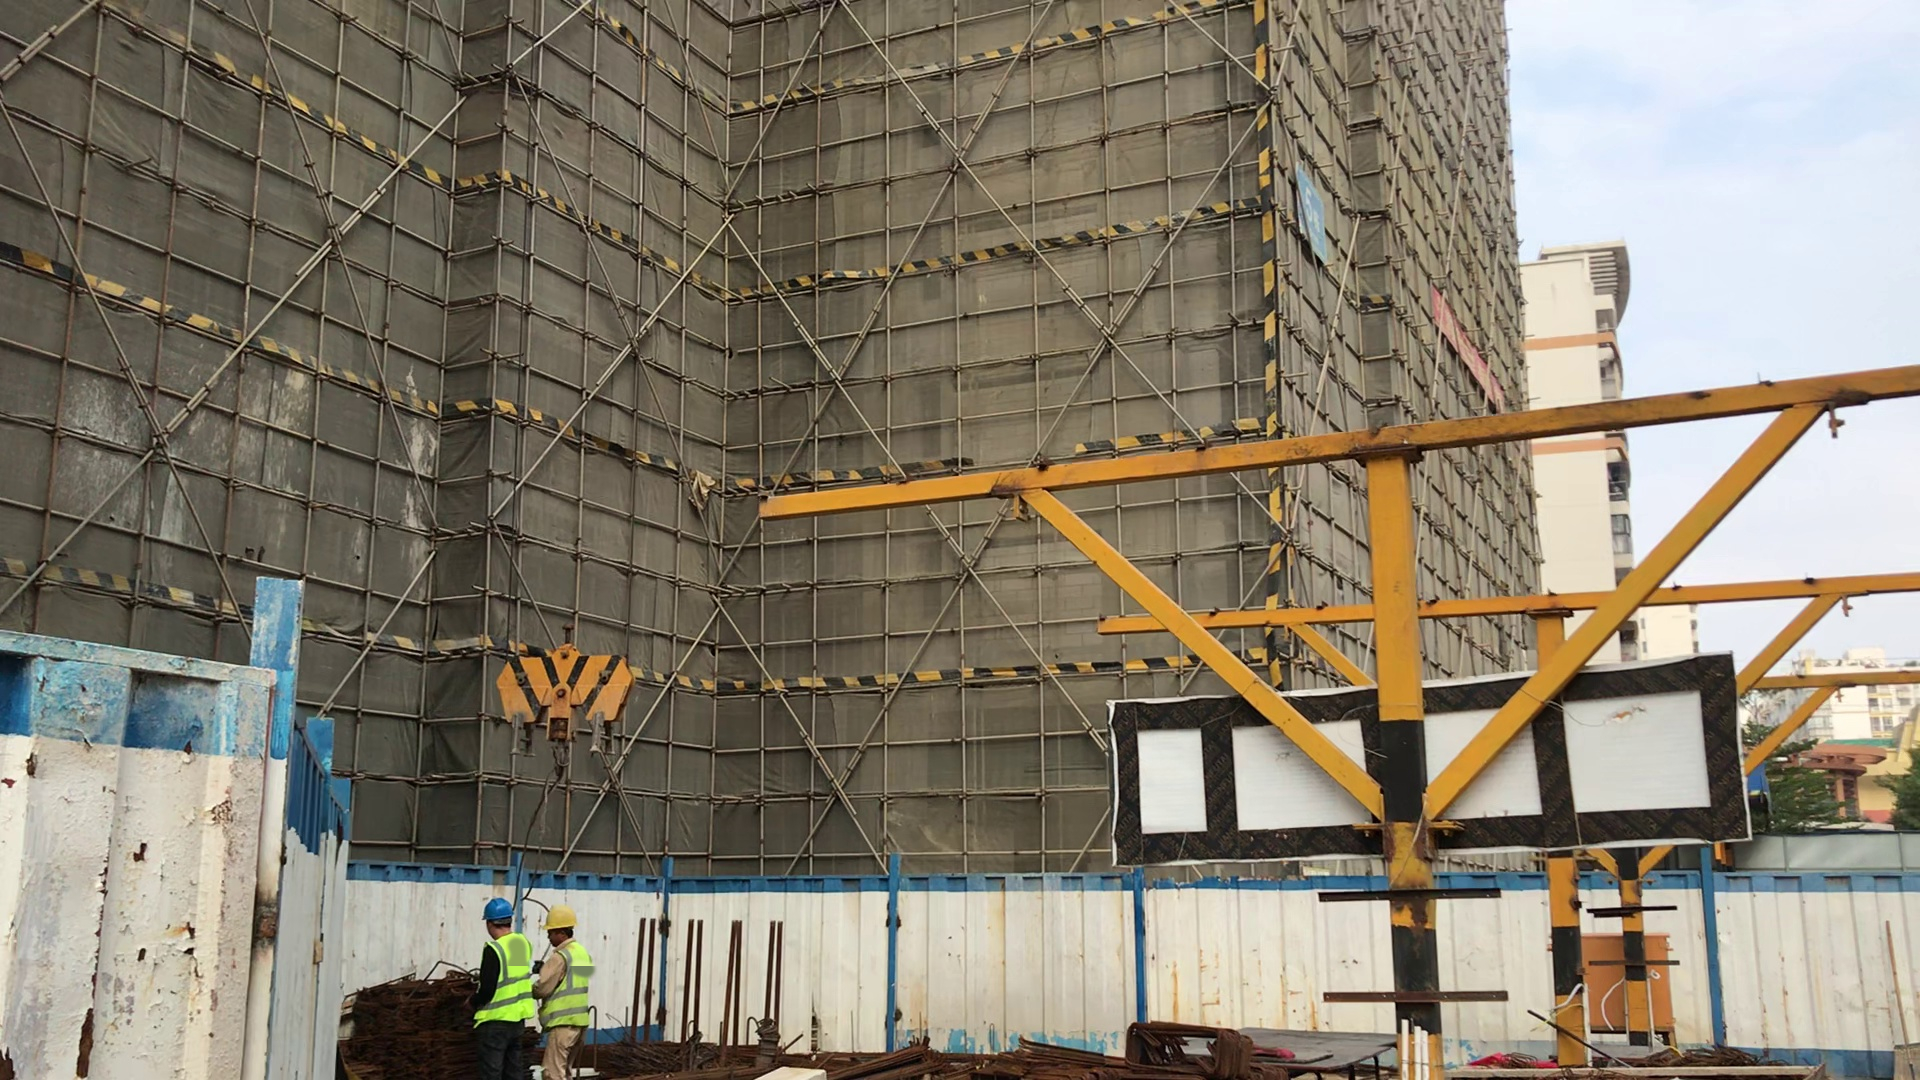ebox: (1567, 929, 1684, 1044)
helmet: (482, 897, 515, 928), (547, 903, 575, 935)
hook: (492, 627, 635, 797)
person: (471, 894, 541, 1080), (538, 902, 597, 1080)
slogan: (1422, 275, 1513, 420), (1289, 152, 1339, 289)
vest: (479, 938, 540, 1024), (543, 945, 592, 1026)
